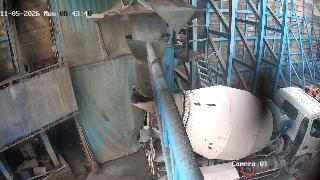cement_mixer_truck: (129, 87, 320, 180)
swing_chute: (125, 34, 171, 97)
